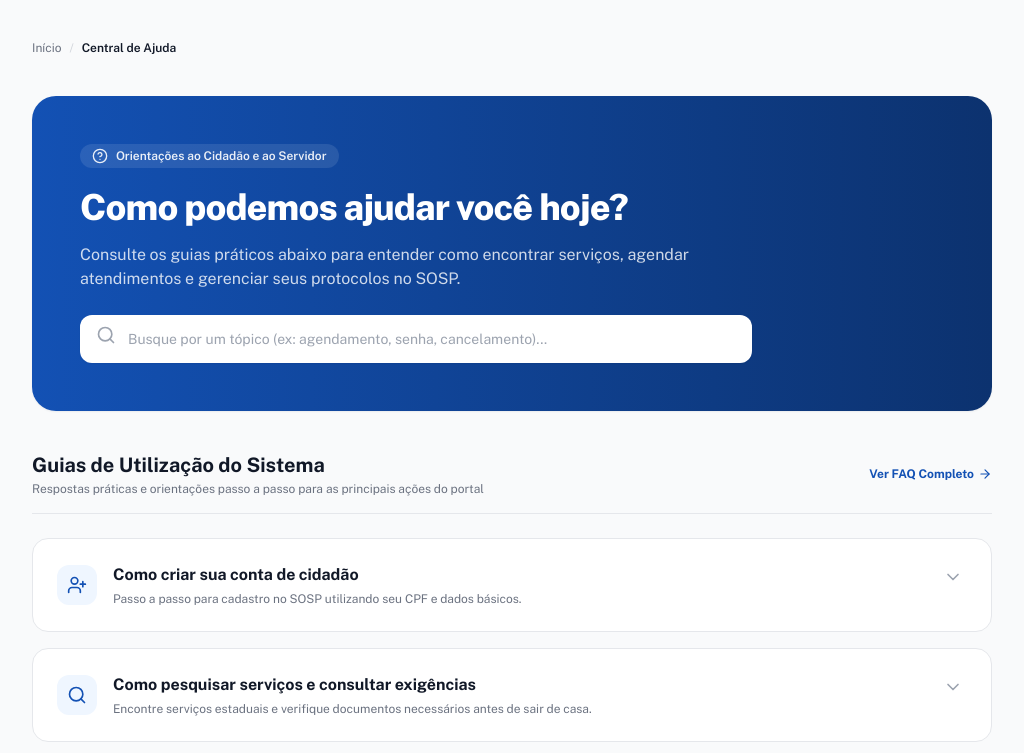
Test: Central de Ajuda (Figma Parity, UC-14, D11) › deve filtrar tópicos conforme o termo digitado na busca
Replace the text in the field named "buscar tópicos de ajuda" with "cancelamento" at (416, 339), box [80, 315, 752, 363]
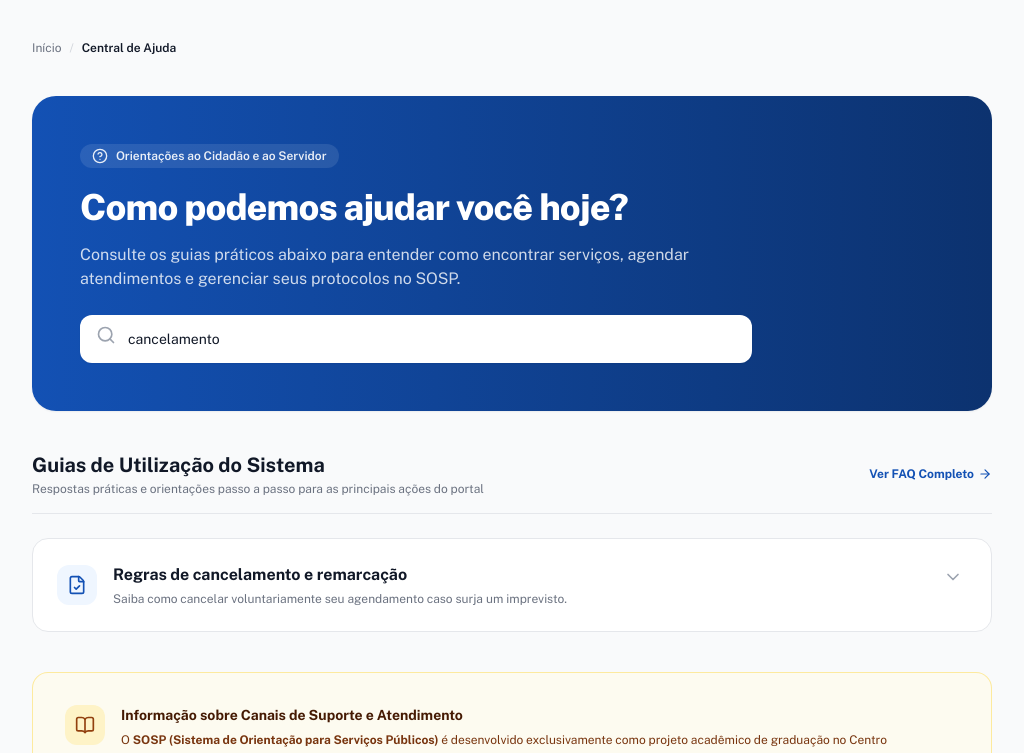
Expected: the heading "Regras de cancelamento e remarcação" is shown, [113, 565, 407, 584]
Now the button "Como criar sua conta de cidadão" is gone
